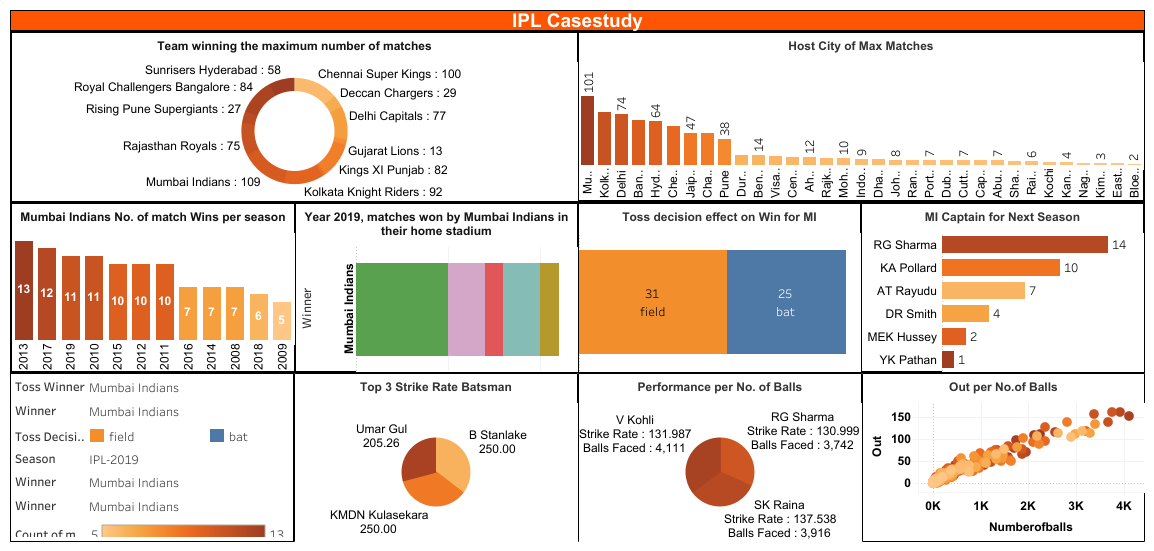

What the dashboard file says about the page in this screenshot:
{"tool":"tableau","page":{"name":"IPL Casestudy Dashboard","canvas":[1155,552],"ordinal":0},"visuals":[{"type":"text","box":[10,10,1135,21]},{"type":"worksheet","title":"Team winning the maximum number of matches","mark":"Pie","rows":["Calculation_454582143568154624","Calculation_454582143568154624"],"box":[11,32,567,169]},{"type":"worksheet","title":"Host City of Max Matches","mark":"Bar","rows":["matches_210D13B5E9AE4D928503CCEBDA01B9A2"],"cols":["city"],"box":[578,32,566,169]},{"type":"worksheet","title":"Mumbai Indians Max. Wins","mark":"Bar","rows":["matches_210D13B5E9AE4D928503CCEBDA01B9A2"],"cols":["date"],"box":[11,203,284,169]},{"type":"worksheet","title":"2019 MI Wins","mark":"Automatic","rows":["winner"],"cols":["matches_210D13B5E9AE4D928503CCEBDA01B9A2"],"box":[295,203,283,169]},{"type":"worksheet","title":"Toss decision effect on Win for MI","mark":"Bar","rows":["winner"],"cols":["matches_210D13B5E9AE4D928503CCEBDA01B9A2"],"box":[578,203,283,169]},{"type":"worksheet","title":"MI Captain for Next Season","mark":"Automatic","rows":["player_of_match"],"cols":["matches_210D13B5E9AE4D928503CCEBDA01B9A2"],"box":[861,203,283,169]},{"type":"worksheet","title":"Top 3 Strike Rate Batsman","mark":"Pie","box":[294,373,284,169]},{"type":"worksheet","title":"Performance per No. of Balls","mark":"Pie","box":[578,373,284,169]},{"type":"worksheet","title":"Out per No.of Balls","mark":"Automatic","rows":["out"],"cols":["numberofballs"],"box":[862,373,283,169]},{"type":"filter","title":"Toss decision effect on Win for MI","param":"[federated.0zpbytx0se26q215h3kj514hz1hx].[none:toss_winner:nk]","box":[11,374,282,23.9]},{"type":"filter","title":"Toss decision effect on Win for MI","param":"[federated.0zpbytx0se26q215h3kj514hz1hx].[none:winner:nk]","box":[11,397.9,282,23.9]},{"type":"legend","title":"Toss decision effect on Win for MI","param":"[federated.0zpbytx0se26q215h3kj514hz1hx].[none:toss_decision:nk]","box":[11,421.7,282,23.9]},{"type":"filter","title":"2019 MI Wins","param":"[federated.0zpbytx0se26q215h3kj514hz1hx].[none:Season:nk]","box":[11,445.6,282,23.9]},{"type":"filter","title":"2019 MI Wins","param":"[federated.0zpbytx0se26q215h3kj514hz1hx].[none:winner:nk]","box":[11,469.4,282,23.9]},{"type":"filter","title":"Mumbai Indians Max. Wins","param":"[federated.0zpbytx0se26q215h3kj514hz1hx].[none:winner:nk]","box":[11,493.3,282,23.9]},{"type":"legend","title":"Mumbai Indians Max. Wins","param":"[federated.0zpbytx0se26q215h3kj514hz1hx].[__tableau_internal_object_id__].[cnt:m","box":[11,517.1,282,23.9]}]}

Visuals, with their boxes in screenshot pixels (x1, y1, x2, y2), scaled from the page's 1155x552 canvas onto the 1154x551 screenshot:
text: {"left": 10, "top": 10, "right": 1144, "bottom": 31}
"Team winning the maximum number of matches" worksheet (Pie marks): {"left": 11, "top": 32, "right": 577, "bottom": 201}
"Host City of Max Matches" worksheet (Bar marks): {"left": 577, "top": 32, "right": 1143, "bottom": 201}
"Mumbai Indians Max. Wins" worksheet (Bar marks): {"left": 11, "top": 203, "right": 295, "bottom": 371}
"2019 MI Wins" worksheet: {"left": 295, "top": 203, "right": 577, "bottom": 371}
"Toss decision effect on Win for MI" worksheet (Bar marks): {"left": 577, "top": 203, "right": 860, "bottom": 371}
"MI Captain for Next Season" worksheet: {"left": 860, "top": 203, "right": 1143, "bottom": 371}
"Top 3 Strike Rate Batsman" worksheet (Pie marks): {"left": 294, "top": 372, "right": 577, "bottom": 541}
"Performance per No. of Balls" worksheet (Pie marks): {"left": 577, "top": 372, "right": 861, "bottom": 541}
"Out per No.of Balls" worksheet: {"left": 861, "top": 372, "right": 1144, "bottom": 541}
"Toss decision effect on Win for MI" filter: {"left": 11, "top": 373, "right": 293, "bottom": 397}
"Toss decision effect on Win for MI" filter: {"left": 11, "top": 397, "right": 293, "bottom": 421}
"Toss decision effect on Win for MI" legend: {"left": 11, "top": 421, "right": 293, "bottom": 445}
"2019 MI Wins" filter: {"left": 11, "top": 445, "right": 293, "bottom": 469}
"2019 MI Wins" filter: {"left": 11, "top": 469, "right": 293, "bottom": 492}
"Mumbai Indians Max. Wins" filter: {"left": 11, "top": 492, "right": 293, "bottom": 516}
"Mumbai Indians Max. Wins" legend: {"left": 11, "top": 516, "right": 293, "bottom": 540}
